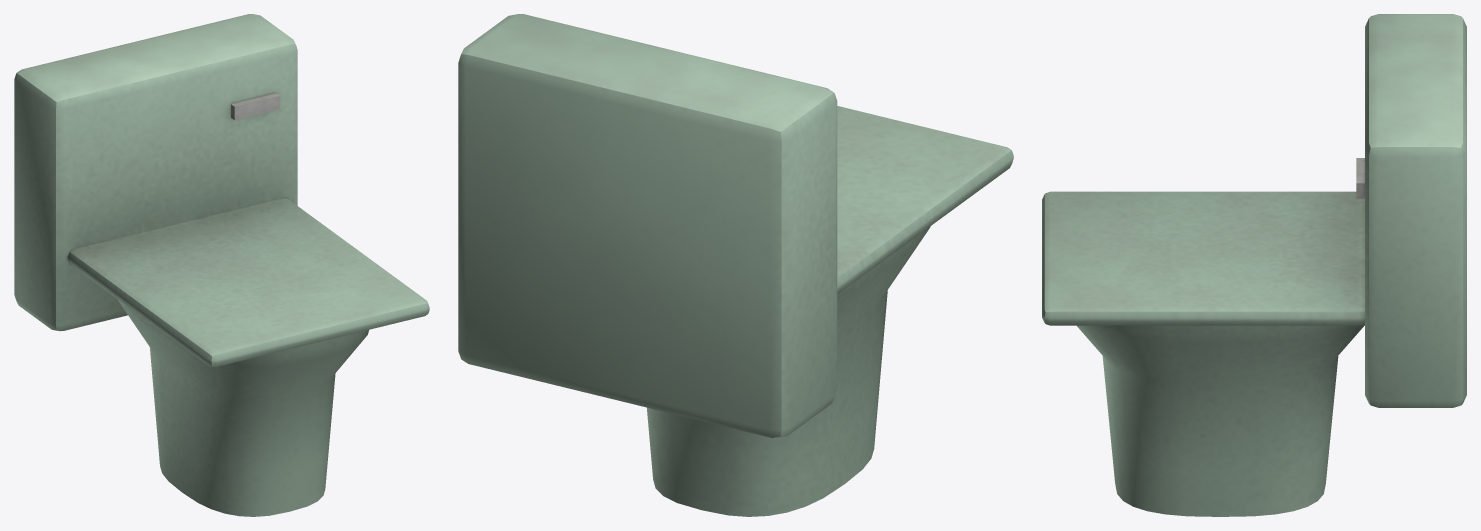
Rendered from H_Toilet.fbx.
3 renders of one model, left to right at view 1: azimuth 30°, elevation 25°; view 2: azimuth 150°, elevation 25°; view 3: azimuth 270°, elevation 25°, orthographic. The views are drawn at different scales.
Parts seen in each view (by area): view 1: H_Toilet; view 2: H_Toilet; view 3: H_Toilet.
Boxes of the visible parts, x1,y1,x2,y2 form: H_Toilet: (14, 14, 429, 516); H_Toilet: (458, 14, 1013, 516); H_Toilet: (1042, 14, 1466, 516).
Size of the model in its own units: 190 by 264 by 250.
1 material, 1 textured.
